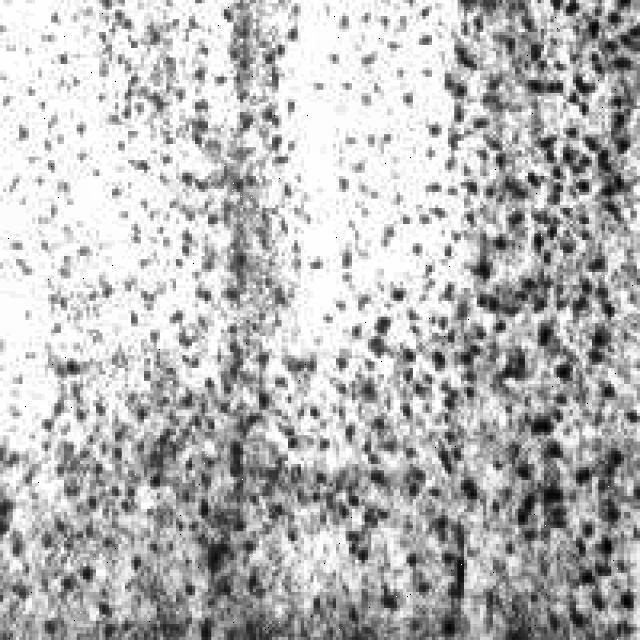Rolled_in_Scale: (384, 0, 637, 627), (48, 9, 301, 620)
